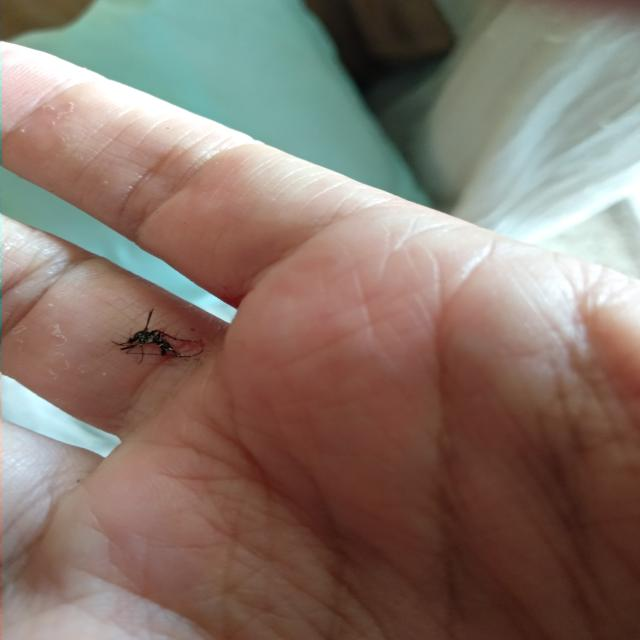albopictus: (108, 302, 203, 368)
